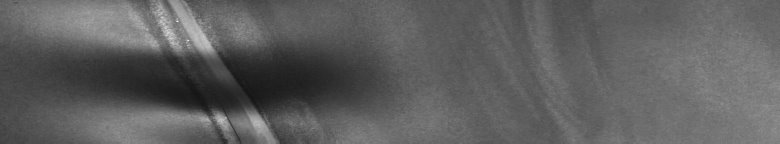ke: (126, 4, 306, 136)
